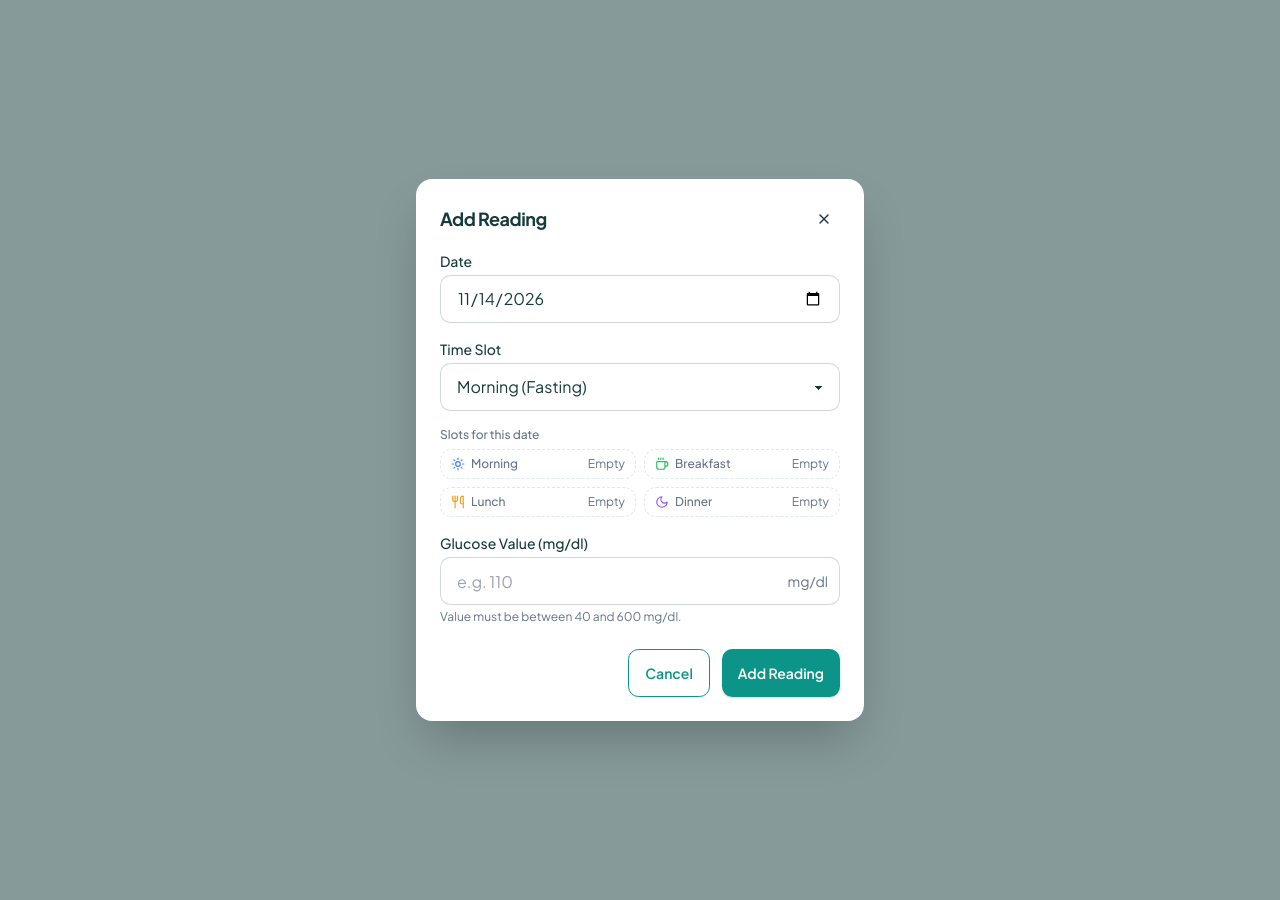
Test: ReadingFormModal › displays the backend error message
Type "110" into the number field labelled "Glucose Value (mg/dl)" at (640, 581), box [440,557,840,605]
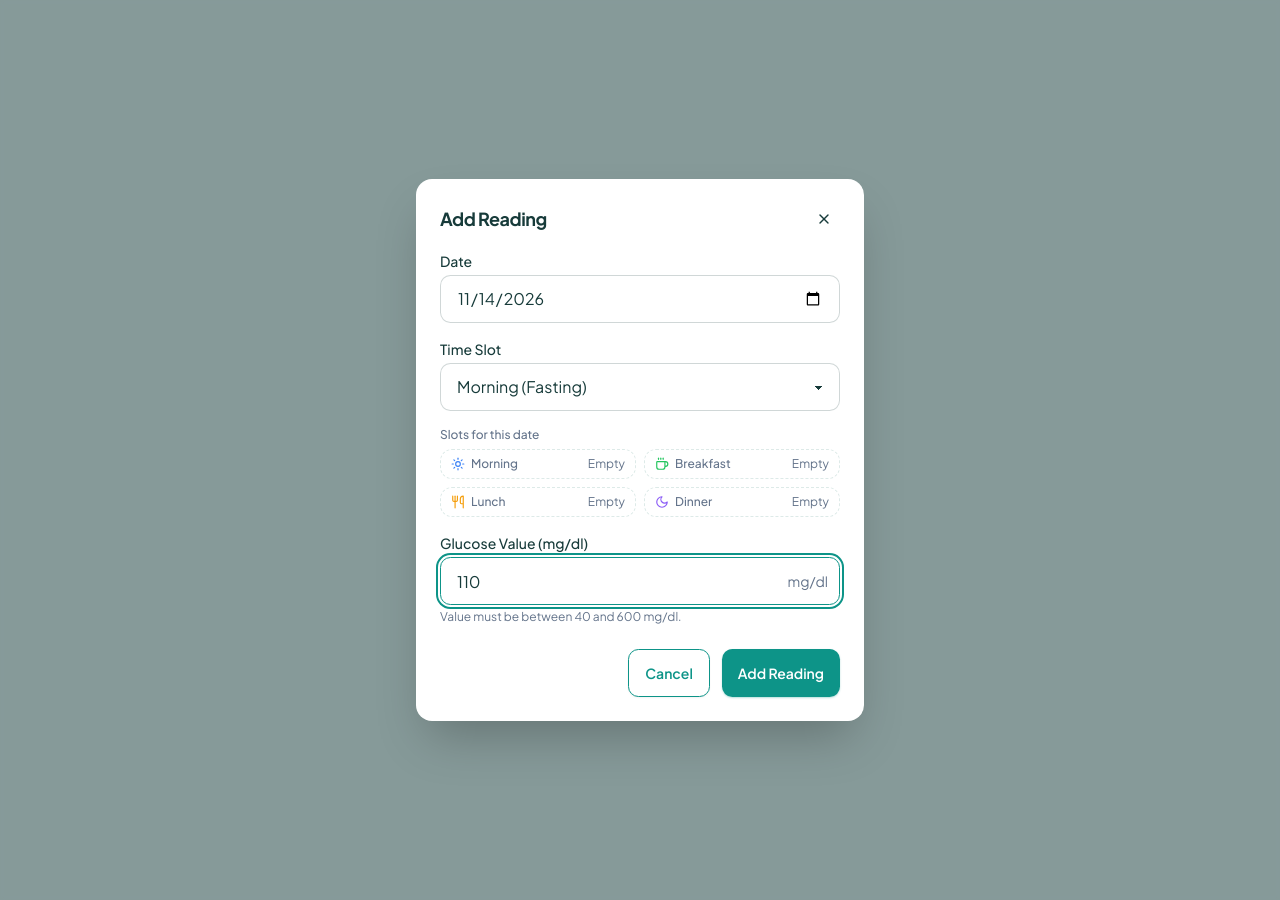
Click the button "Add Reading" at (781, 673), box [722,649,840,697]
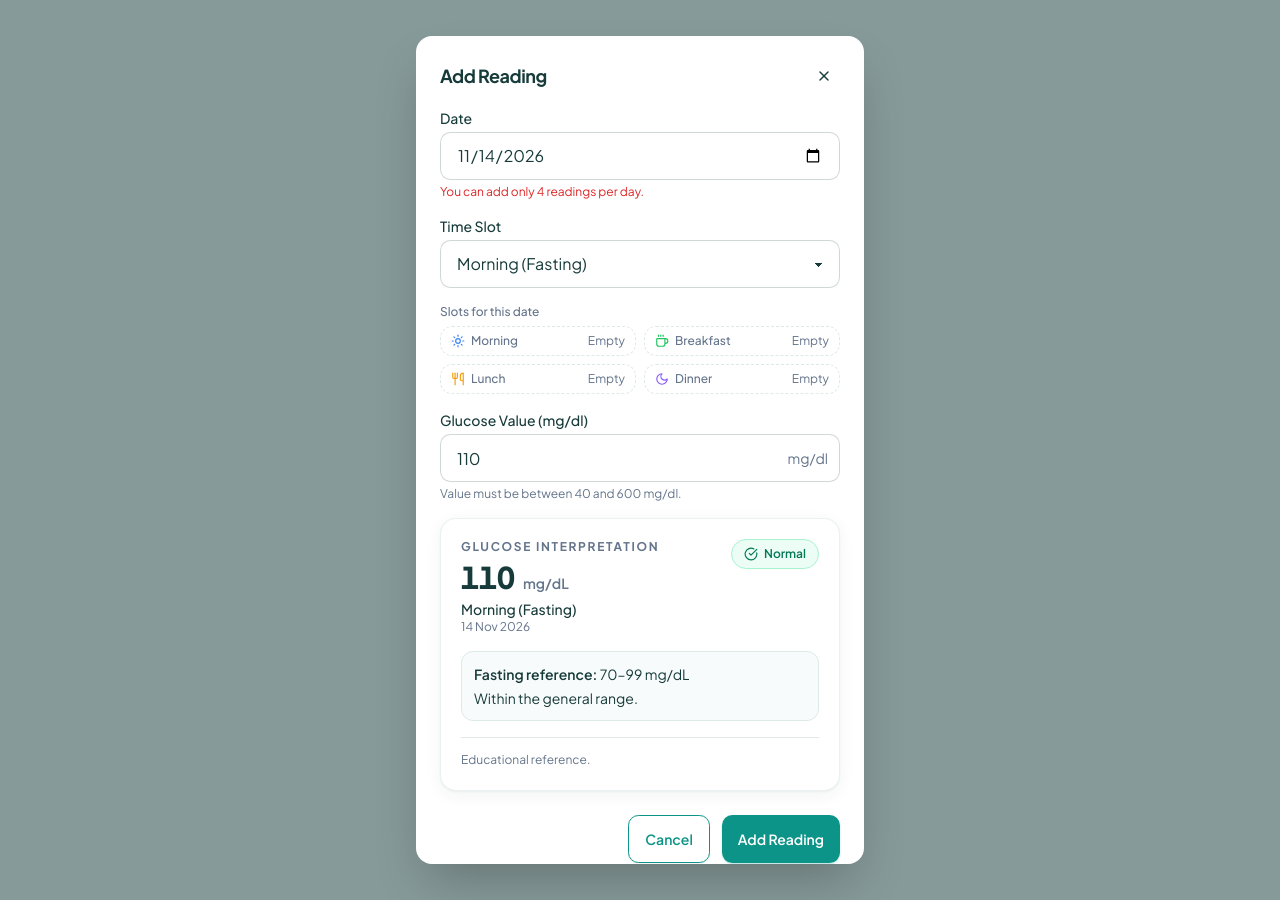
Result: the text "You can add only 4 readings per day." is shown at [440,184,644,199]
